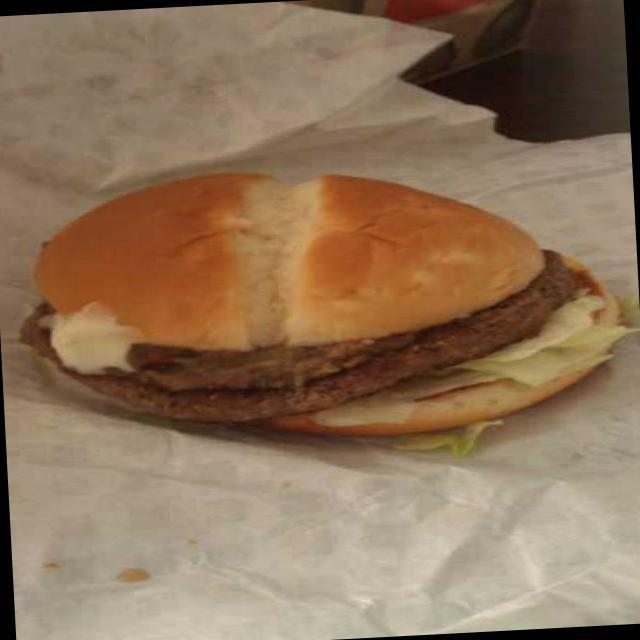Hamburger: (0, 141, 629, 479)
